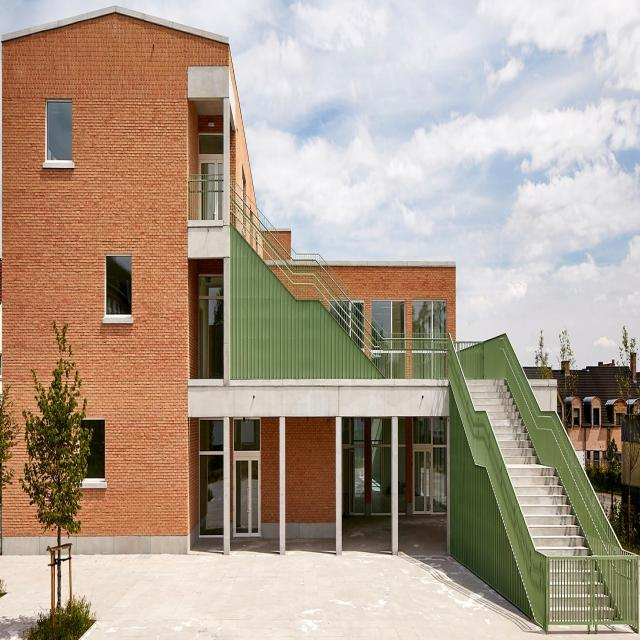door: (199, 416, 224, 536), (233, 448, 260, 537), (414, 442, 433, 511)
railing: (229, 173, 447, 379), (188, 173, 224, 222)
window: (343, 415, 447, 515), (198, 276, 224, 379), (105, 247, 130, 324), (45, 102, 72, 167), (79, 425, 105, 485), (369, 300, 404, 334), (412, 301, 448, 331), (198, 136, 223, 172), (233, 416, 260, 446)
